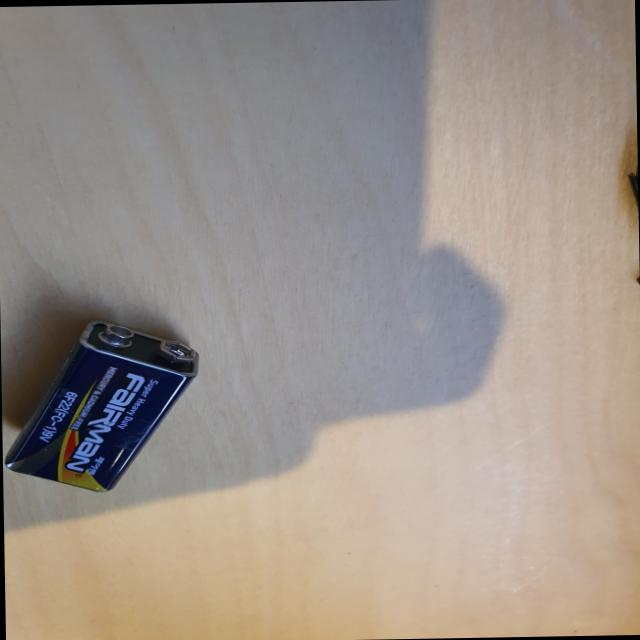battery-etc-etc: (6, 318, 212, 500)
